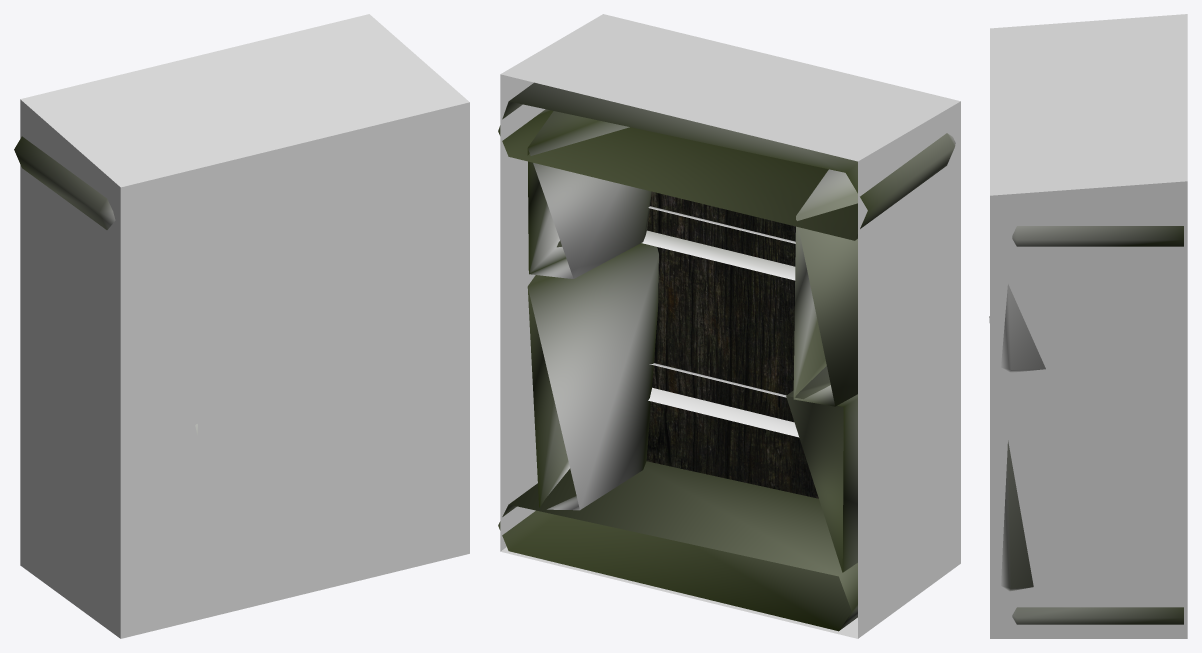
The model's file is ex_nord_win_02.dae.
3 renders of one model, left to right at view 1: azimuth 30°, elevation 25°; view 2: azimuth 150°, elevation 25°; view 3: azimuth 270°, elevation 25°, orthographic. The views are drawn at different scales.
Parts seen in each view (by area): view 1: nifid_19-matrix, nifid_10-matrix; view 2: nifid_10-matrix, nifid_19-matrix, nifid_1-matrix, nifid_6-matrix; view 3: nifid_19-matrix, nifid_10-matrix.
Boxes of the visible parts, left/top/right/bottom form: nifid_19-matrix: left=20, top=14, right=469, bottom=638; nifid_10-matrix: left=14, top=136, right=197, bottom=435; nifid_10-matrix: left=498, top=82, right=955, bottom=631; nifid_19-matrix: left=500, top=14, right=960, bottom=638; nifid_1-matrix: left=646, top=191, right=818, bottom=498; nifid_6-matrix: left=642, top=206, right=799, bottom=437; nifid_19-matrix: left=990, top=14, right=1187, bottom=638; nifid_10-matrix: left=989, top=226, right=1183, bottom=624.
Bounding box in the file's own units: 78.57 × 37.9 × 96.59.
Materials: 2 (1 with a texture image).
